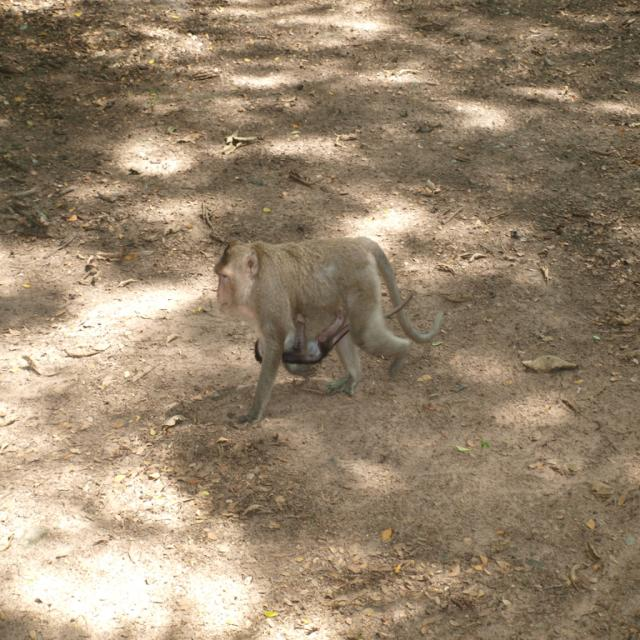Monkey: (257, 295, 413, 376)
